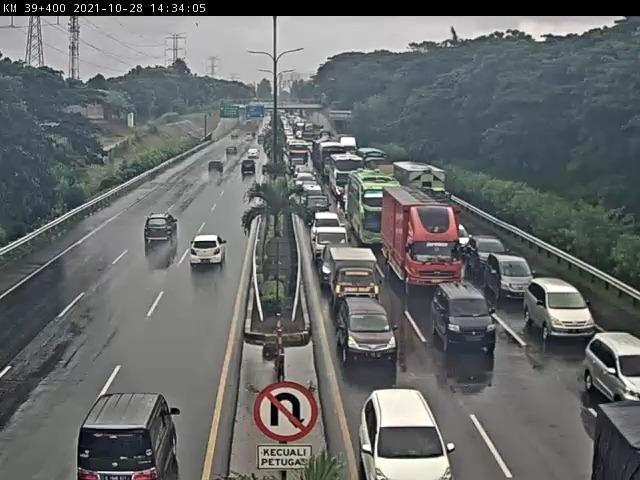bus: (349, 172, 402, 248), (323, 152, 363, 194), (287, 140, 309, 170)
car: (78, 395, 180, 480), (362, 388, 455, 480), (330, 294, 398, 366), (430, 280, 497, 352), (522, 274, 593, 340), (586, 336, 640, 403), (323, 247, 385, 305), (489, 256, 534, 303), (311, 223, 352, 265), (467, 236, 509, 271), (190, 236, 229, 271), (145, 212, 182, 246), (299, 195, 331, 225), (448, 222, 471, 253), (297, 179, 321, 200), (313, 209, 341, 227), (239, 161, 256, 181), (207, 161, 224, 178), (295, 168, 313, 183), (225, 146, 242, 161), (245, 150, 262, 165)
truck: (382, 186, 461, 296), (393, 160, 457, 214), (319, 143, 348, 179), (357, 149, 386, 170)
